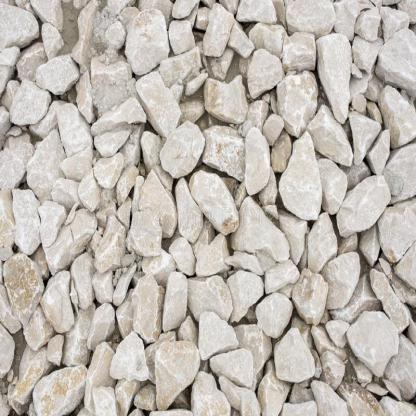Sedimentary_Limestone: (274, 124, 328, 213), (315, 27, 359, 130), (155, 118, 210, 179), (339, 178, 393, 235), (190, 310, 242, 358), (92, 90, 146, 136), (256, 282, 298, 331), (30, 194, 70, 244), (8, 78, 49, 124), (90, 155, 126, 192), (112, 330, 138, 369)
